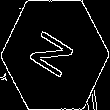N_SE: (27, 25, 83, 85)
